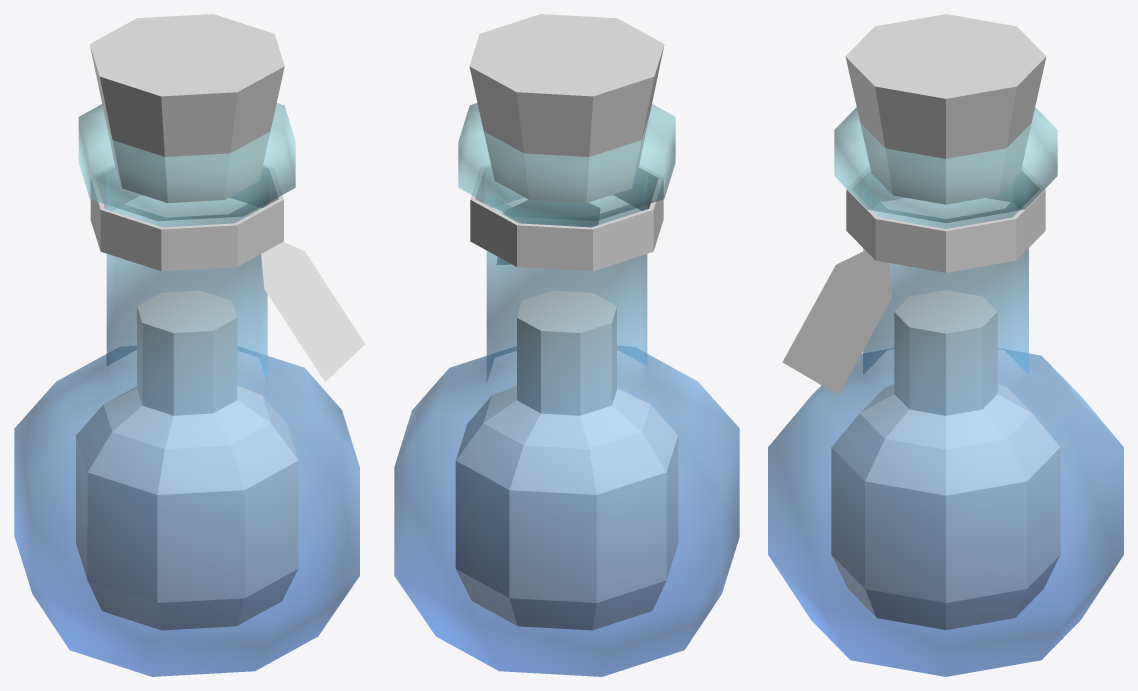
File: mallelixirupdate2023potion02.fbx
3 views of the same model, side by side, from view 1: azimuth 30°, elevation 25°; view 2: azimuth 150°, elevation 25°; view 3: azimuth 270°, elevation 25° (orthographic).
Parts seen in each view (by area): view 1: Cylinder, Cylinder.016, Cylinder.021; view 2: Cylinder, Cylinder.016, Cylinder.021; view 3: Cylinder, Cylinder.016, Cylinder.021.
Part boxes in pixels (box(x1,y1,x2,y2)): Cylinder: box(14, 103, 359, 676); Cylinder.016: box(76, 290, 298, 630); Cylinder.021: box(89, 14, 365, 381); Cylinder: box(394, 103, 739, 676); Cylinder.016: box(455, 290, 678, 630); Cylinder.021: box(469, 14, 664, 271); Cylinder: box(768, 107, 1123, 676); Cylinder.016: box(831, 290, 1060, 629); Cylinder.021: box(782, 14, 1046, 394).
Size of the model in its own units: 25.44 by 44.43 by 25.44.
